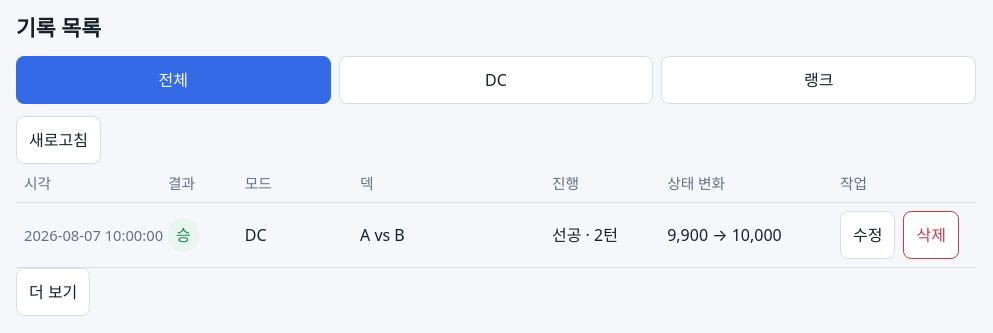
Test: 기록 목록 계약 › 동률 커서와 snapshot을 보내며 변경된 페이지는 이어 붙이지 않는다
The image size is (993, 333).
Click the button "더 보기" at (53, 292), box x1=16 y1=268 x2=90 y2=316
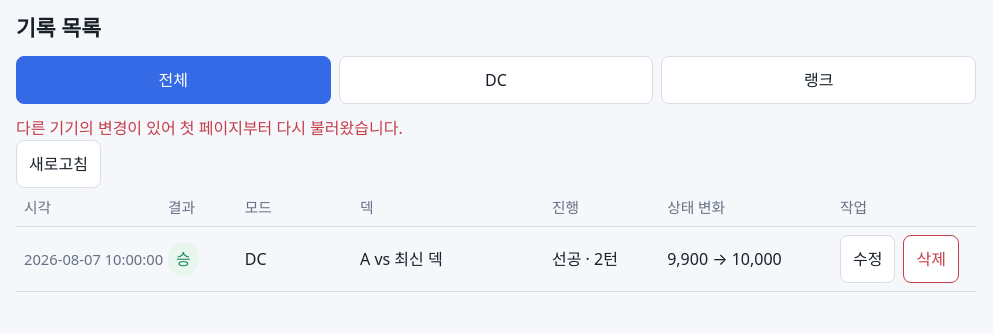
Expected: the text "다른 기기의 변경이 있어 첫 페이지부터 다시 불러왔습니다." is shown, x1=16 y1=117 x2=403 y2=139
Expected: the button "더 보기" is gone
